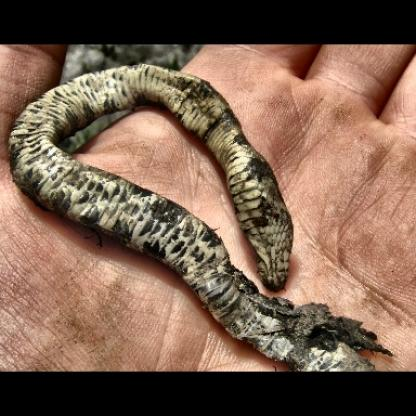Snake: (6, 63, 360, 362)
